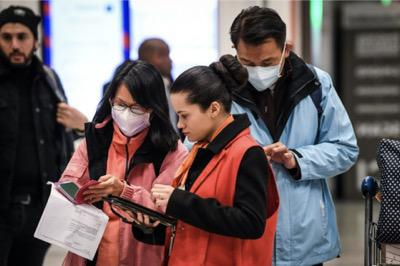with_mask: (109, 95, 151, 139), (239, 54, 282, 96)
without_mask: (171, 106, 208, 144), (0, 30, 36, 66)
